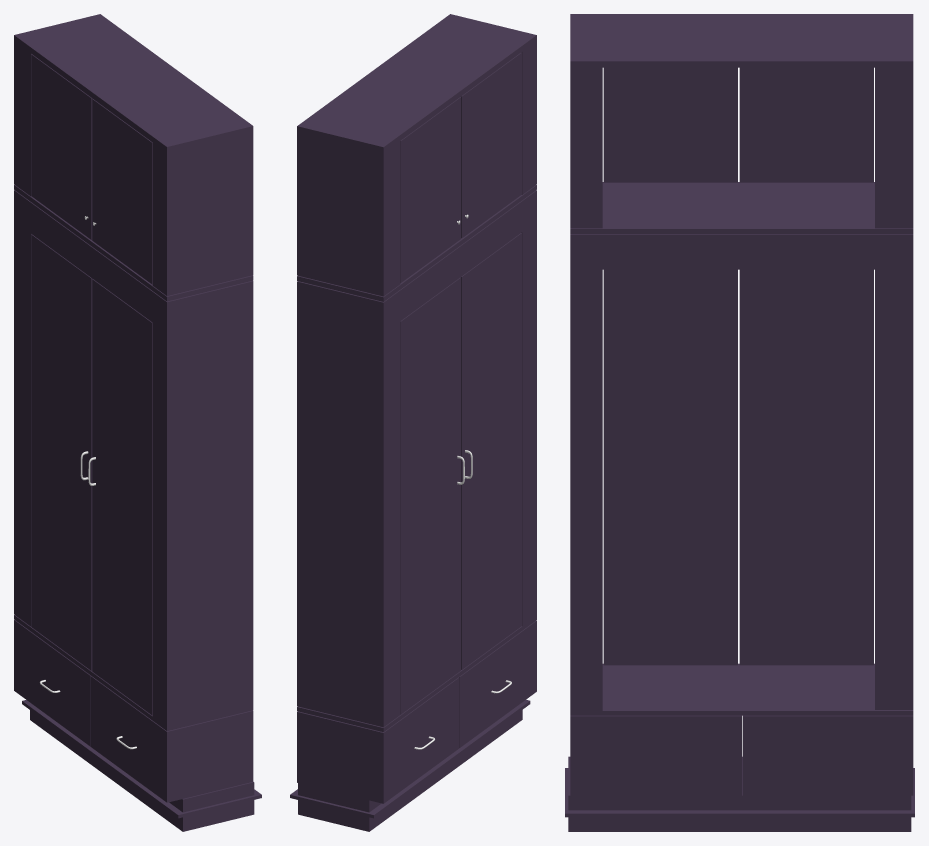
File: cupboard drawer cabinet.fbx
The picture shows the model from 3 angles, left to right: view 1: azimuth 30°, elevation 25°; view 2: azimuth 150°, elevation 25°; view 3: azimuth 270°, elevation 25°; orthographic projection. The views are drawn at different scales.
Visible parts, largest first — view 1: CUPBOARD; view 2: CUPBOARD; view 3: CUPBOARD.
Boxes of the visible parts, <box> form: CUPBOARD: <box>14,14,261,831</box>; CUPBOARD: <box>290,14,536,831</box>; CUPBOARD: <box>565,14,914,831</box>.
Size of the model in its own units: 17.33 by 46.97 by 114.
